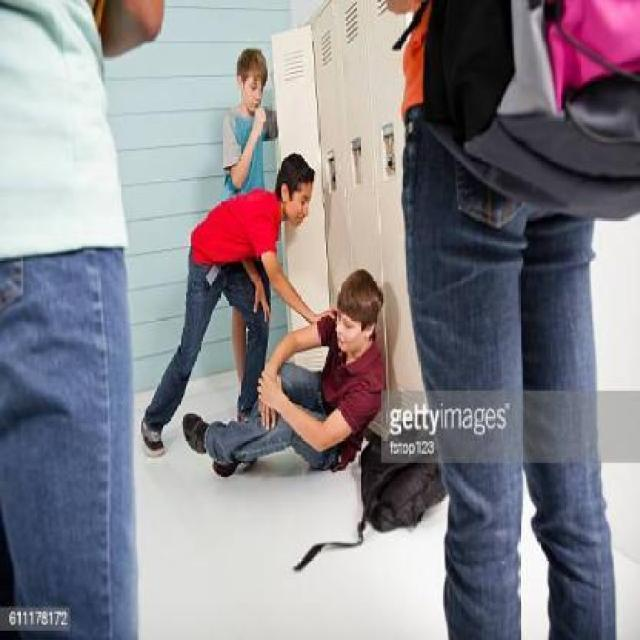fight: (0, 1, 172, 640), (220, 40, 271, 192)
